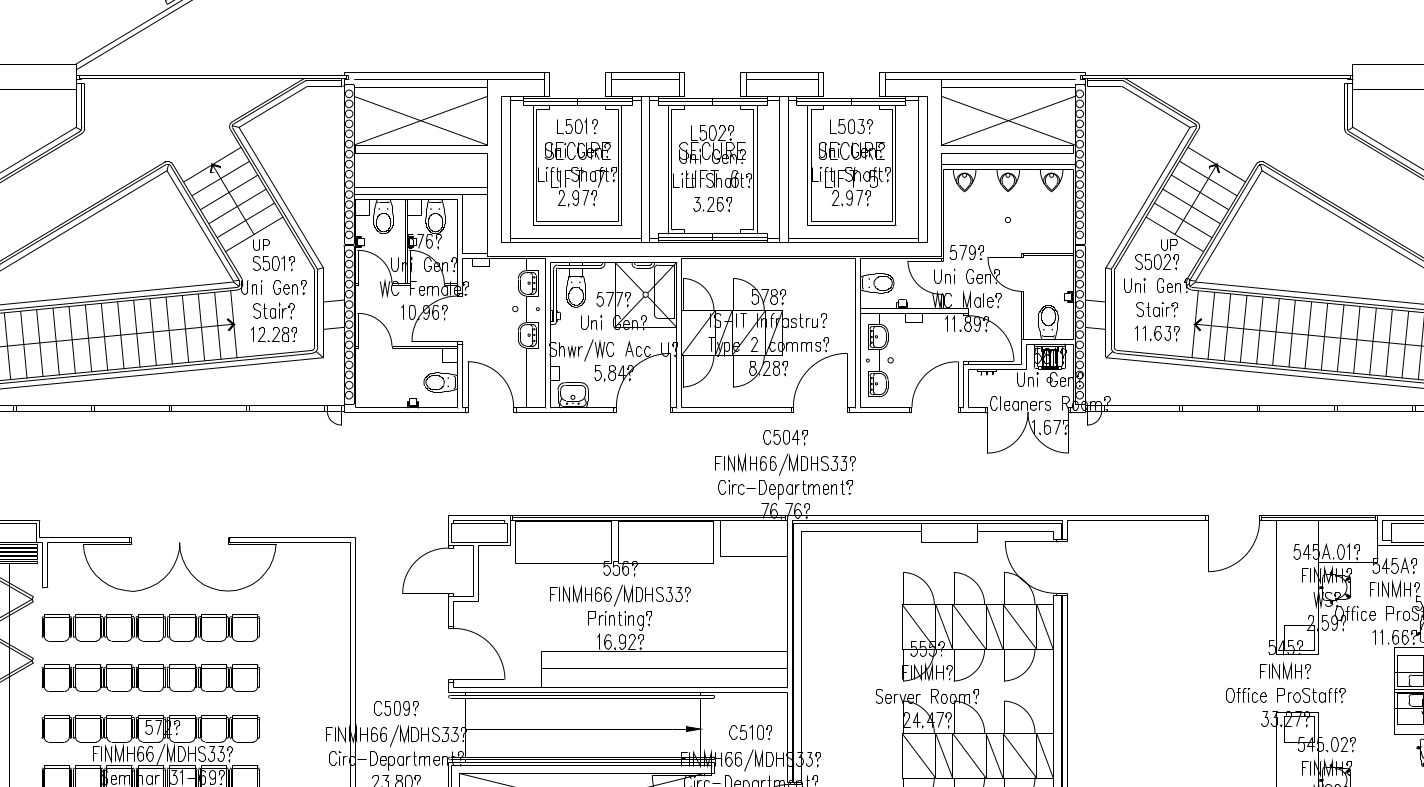door: (981, 409, 1074, 468), (1192, 522, 1267, 587), (612, 347, 674, 416), (384, 536, 446, 605), (452, 617, 514, 686), (789, 349, 851, 416), (466, 352, 520, 419), (955, 311, 1018, 362), (225, 541, 282, 597), (77, 542, 134, 598), (1000, 536, 1054, 595), (907, 358, 961, 417), (405, 292, 458, 345), (356, 305, 398, 354), (982, 246, 1018, 294), (997, 566, 1037, 604), (903, 259, 941, 298), (727, 271, 765, 310), (684, 353, 722, 392)
